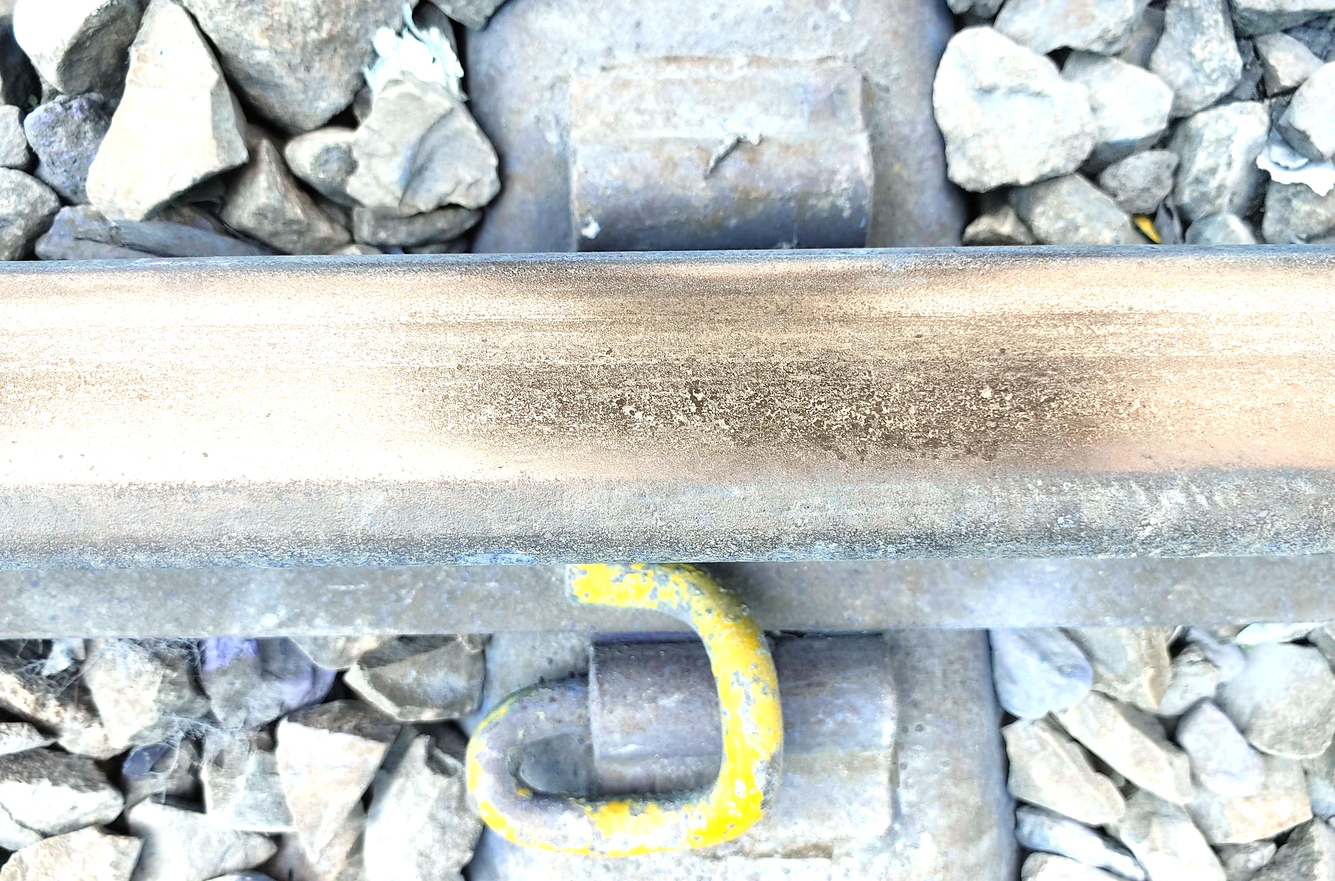Poor contact: (470, 573, 886, 843)
loss: (552, 39, 902, 268)
